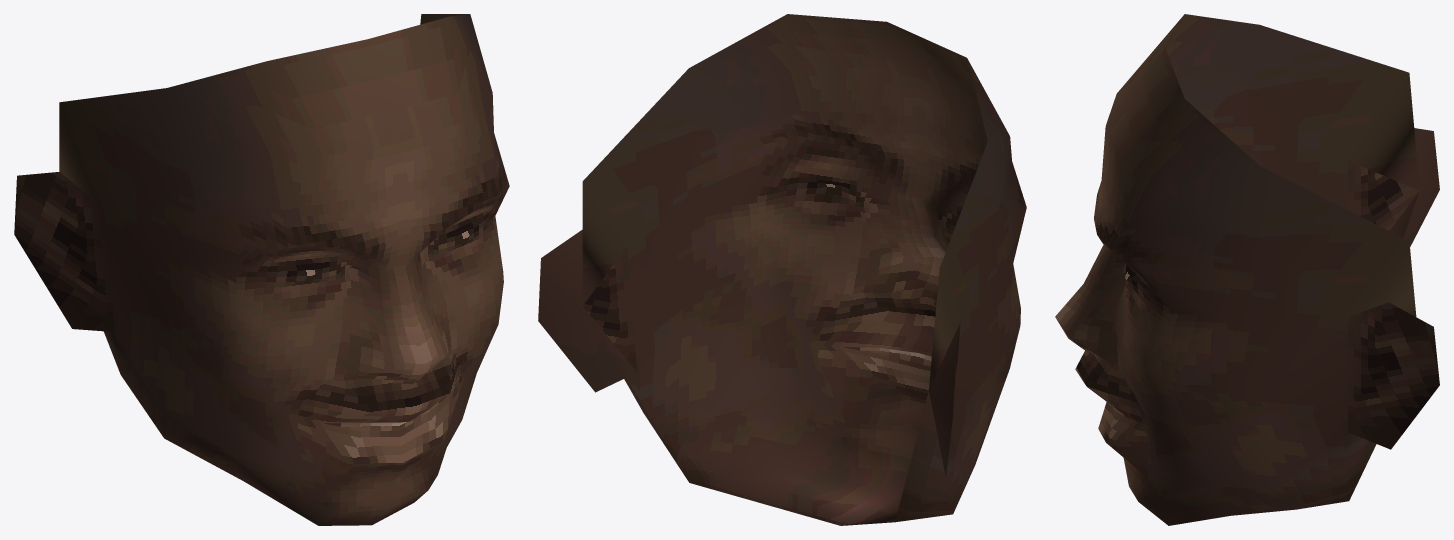
3 views of the same model, side by side, from view 1: azimuth 30°, elevation 25°; view 2: azimuth 150°, elevation 25°; view 3: azimuth 270°, elevation 25° (orthographic). The views are drawn at different scales.
Bounding box in the file's own units: 17.18 × 18.86 × 14.28.
1 material, 1 textured.
